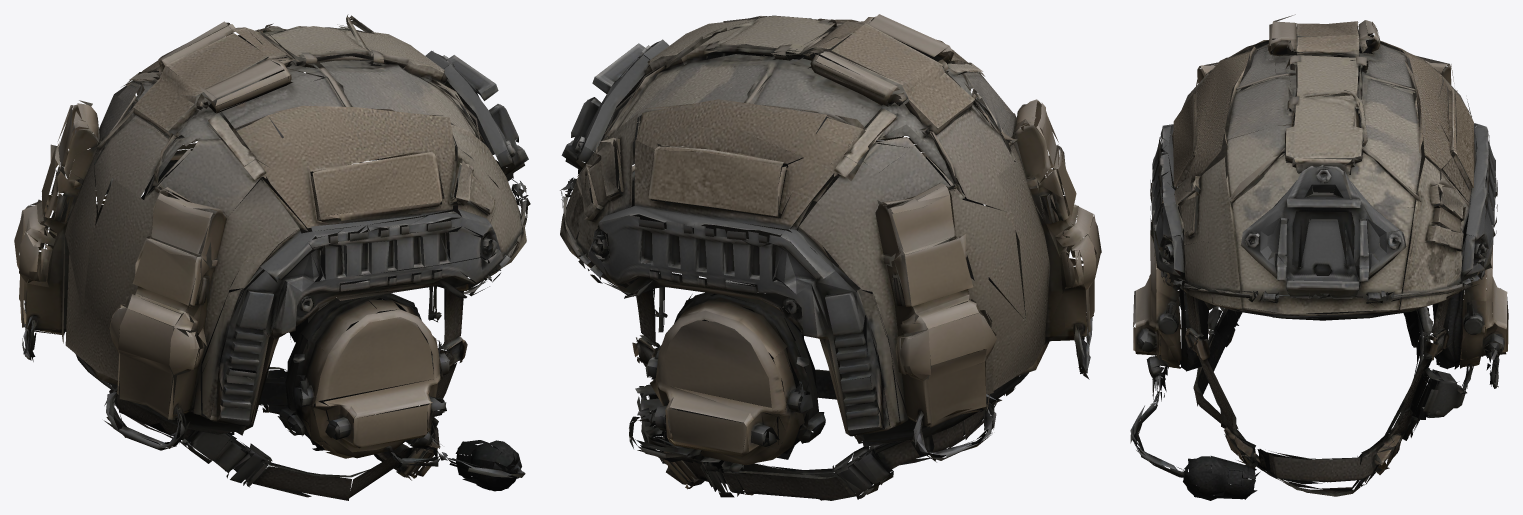
The model's file is ArmorHelmet.fbx.
3 renders of one model, left to right at view 1: azimuth 30°, elevation 25°; view 2: azimuth 150°, elevation 25°; view 3: azimuth 270°, elevation 25°, orthographic. The views are drawn at different scales.
Parts seen in each view (by area): view 1: GunMesh; view 2: GunMesh; view 3: GunMesh.
Part boxes in pixels (left/top/right/bottom): GunMesh: left=14, top=14, right=530, bottom=500; GunMesh: left=560, top=14, right=1101, bottom=500; GunMesh: left=1130, top=14, right=1508, bottom=500.
Size of the model in its own units: 0.3029 by 0.3002 by 0.2562.
Materials: 1 (1 with a texture image).
